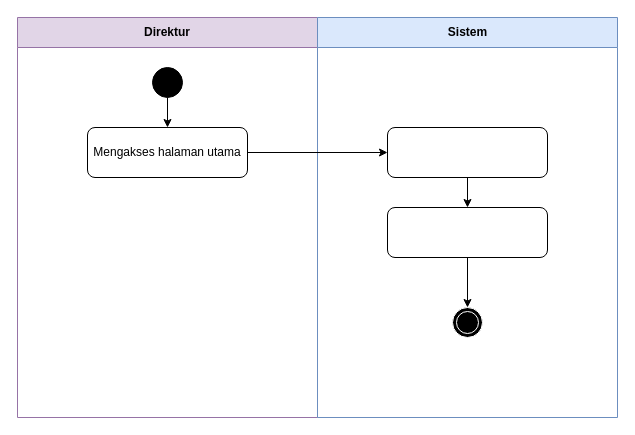
The diagram is 635 pixels wide and 435 high, and some of its shapes have lost their labels. Here are the shapes that lost their labels. From the top down, the centre of each, then its label:
At (467,152): "Memuat data ringkasan".
At (467,232): "Menampilkan Dashboard".
